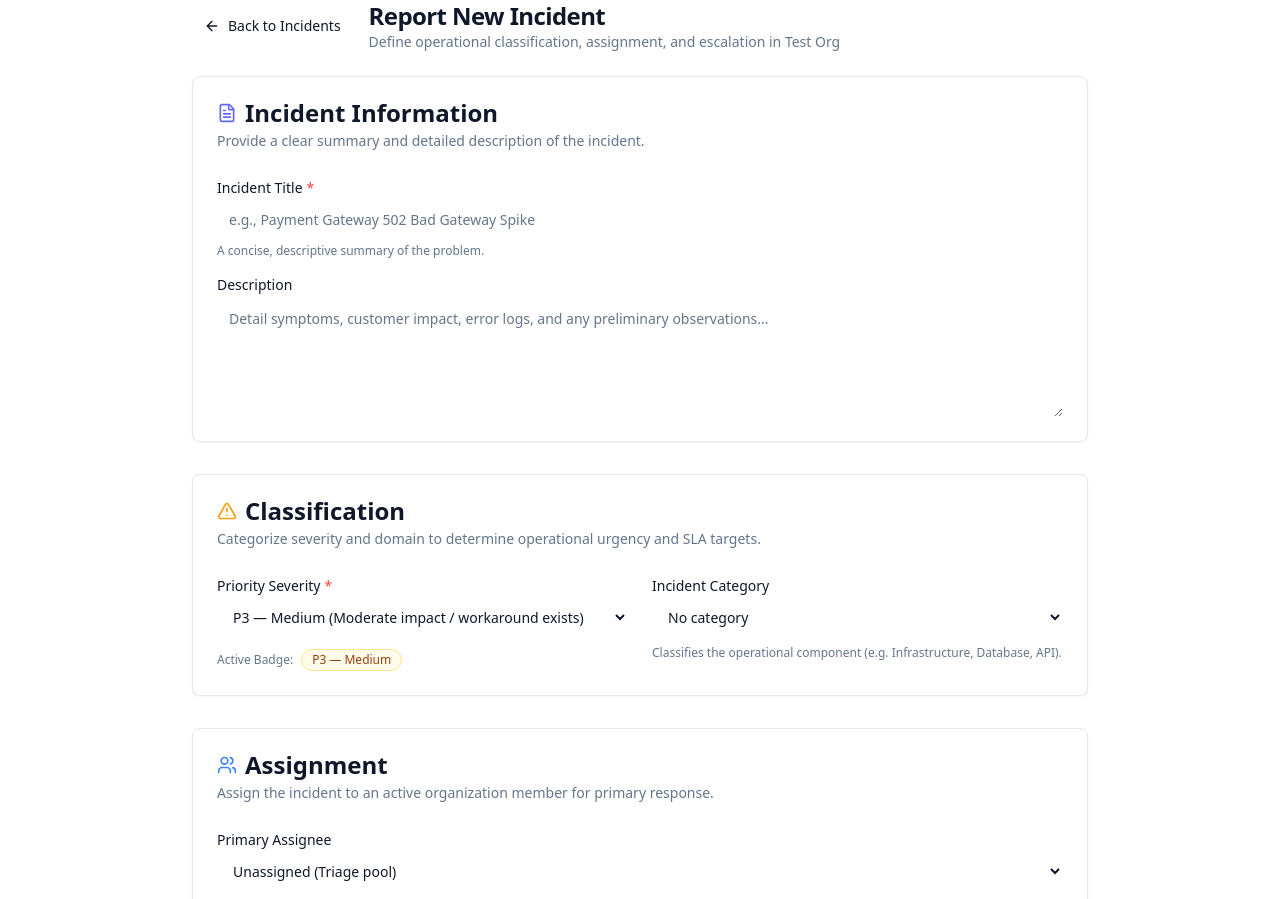
it: IncidentCreationIntegration › displays error alert when incident creation fails
The width and height of the screenshot is (1280, 899).
Type "Failed incident" into the field labelled "Incident Title*" at (640, 219), box [217, 199, 1063, 239]
(page scrolled)
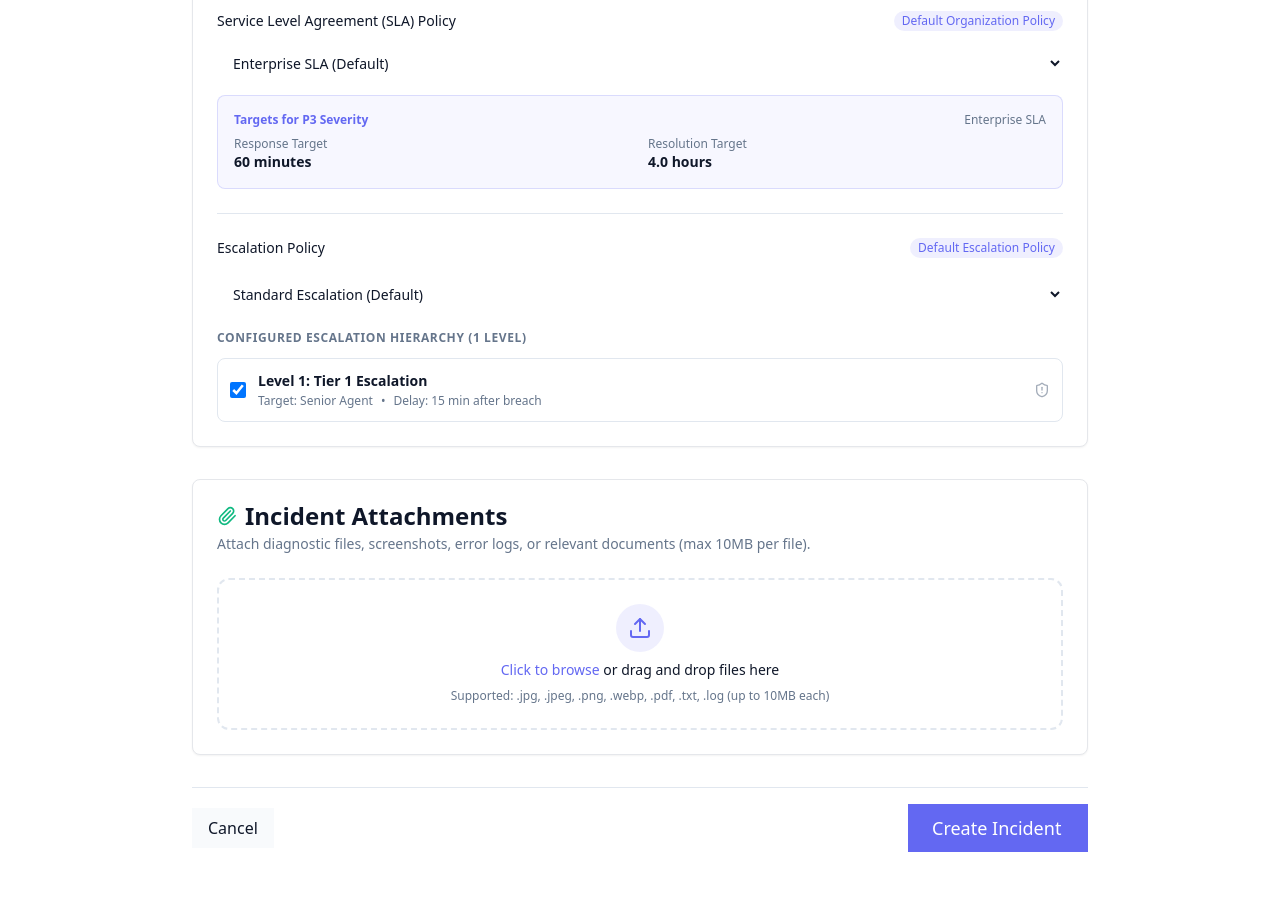
Click the button "Create Incident" at (998, 828), box [908, 804, 1088, 852]
(page scrolled)
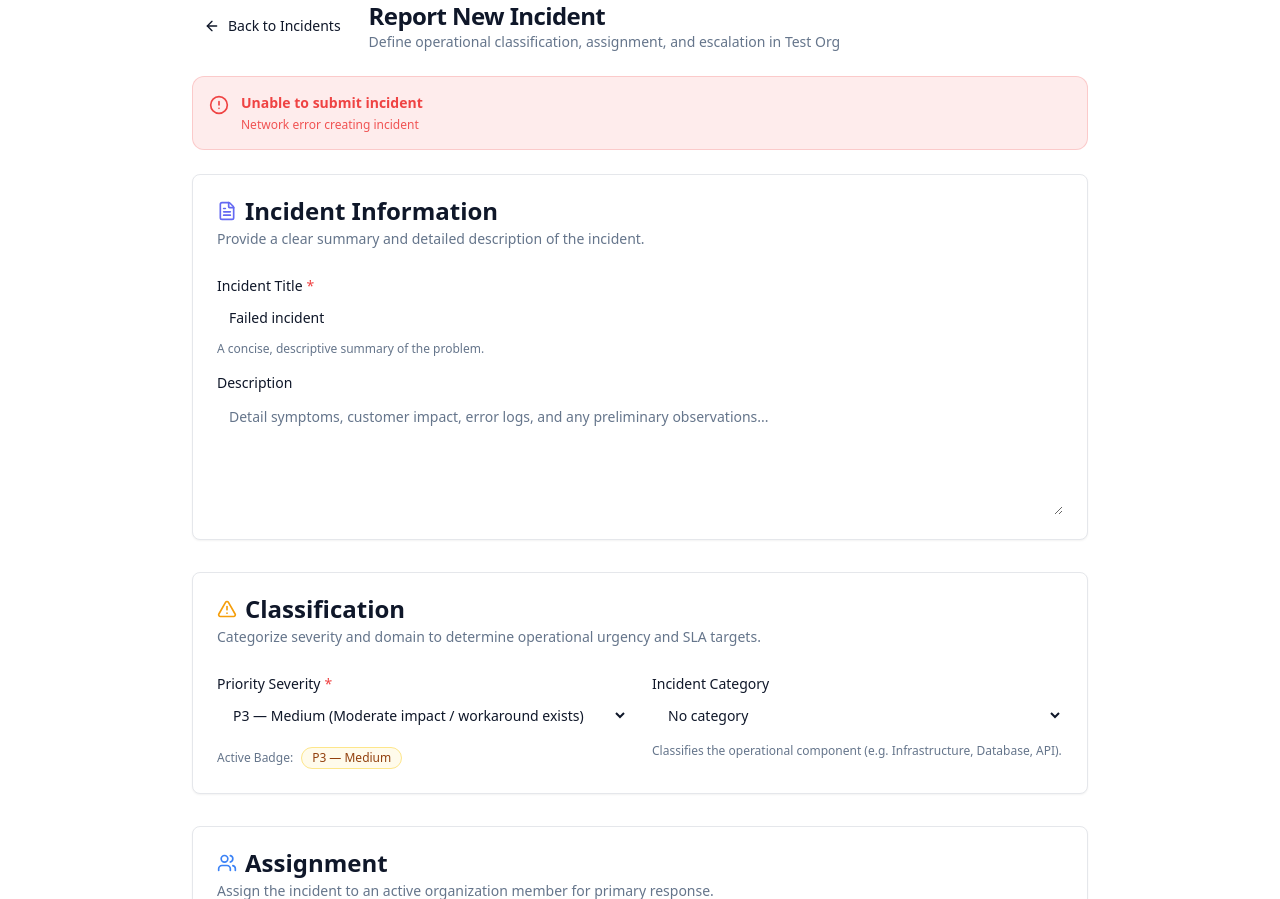
expect the text "Unable to submit incident" is shown: met, box [241, 93, 423, 113]
expect the text "Network error creating incident" is shown: met, box [241, 117, 423, 133]
